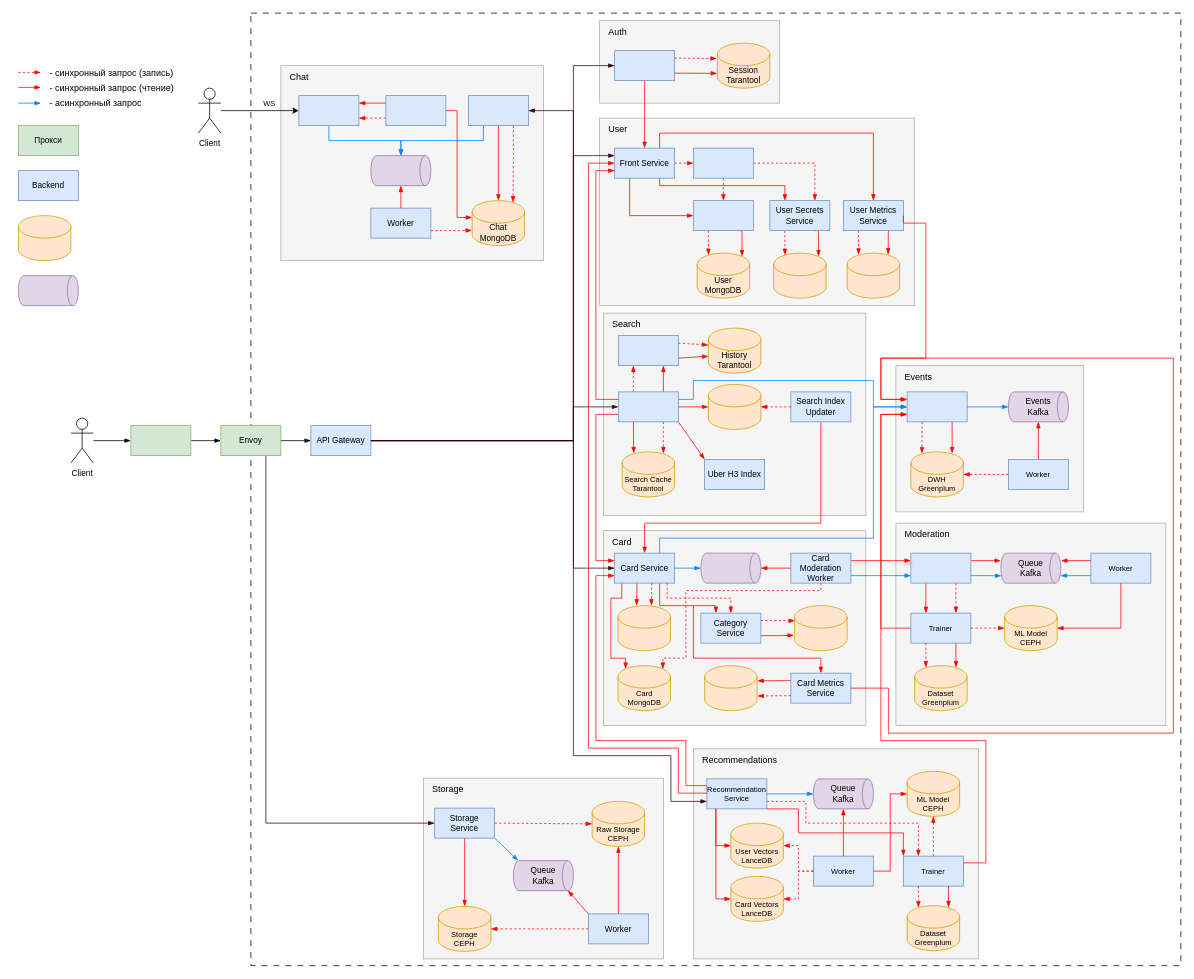
This 1194x979 diagram has some shape labels left out. Each missing label, with the centre of its shape:
"Auth Service" goes at (x=644, y=65).
"Buffer" goes at (x=328, y=110).
"Card Cache Tarantool" goes at (x=643, y=628).
"Card Metrics Clickhouse" goes at (x=730, y=688).
"Category MongoDB" goes at (x=820, y=628).
"Chat Service" goes at (x=498, y=110).
"Dispatcher" goes at (x=415, y=110).
"Events Service" goes at (x=936, y=406).
"L4 Balancing" goes at (x=160, y=440).
"Messages Kafka" goes at (x=400, y=170).
"Moderation Jobs Kafka" goes at (x=730, y=567).
"Moderation Service" goes at (x=940, y=567).
"Saga Orchestrator" goes at (x=723, y=162).
"Search History Service" goes at (x=648, y=350).
"Search Index Elastic" goes at (x=734, y=406).
"Search Service" goes at (x=648, y=406).
"User Metrics Clickhouse" goes at (x=873, y=275).
"User Secrets MongoDB" goes at (x=799, y=275).
"User Service" goes at (x=723, y=215).
"БД" goes at (x=44, y=238).
"Брокер сообщений" goes at (x=48, y=290).
